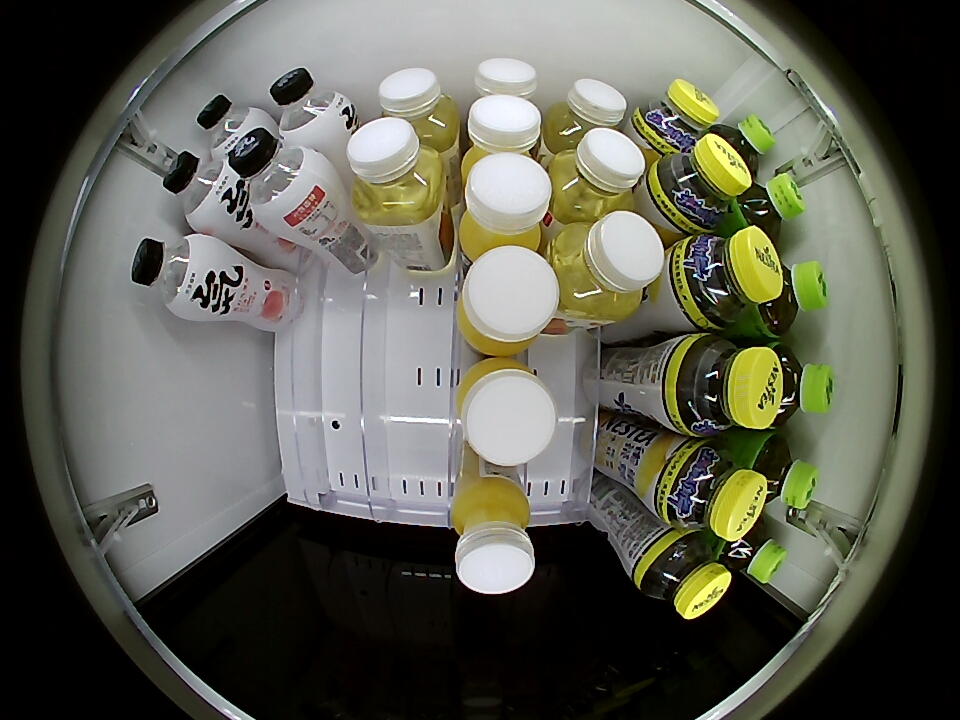chacui: (663, 334, 782, 437), (671, 228, 783, 332), (658, 439, 767, 541), (647, 135, 751, 233), (633, 528, 731, 620), (635, 80, 719, 155)
chapai2: (549, 211, 663, 324), (347, 116, 447, 225), (549, 128, 644, 222), (378, 67, 460, 149), (544, 78, 628, 153)
nfc: (457, 244, 561, 354), (456, 359, 557, 466), (458, 151, 553, 262), (449, 480, 536, 594), (462, 95, 543, 170), (473, 58, 539, 103)
yitengyuan: (762, 344, 833, 428), (754, 258, 828, 337), (745, 433, 818, 512), (731, 173, 805, 239), (716, 518, 786, 585), (716, 114, 775, 177)
yuanqishui: (228, 127, 333, 230), (131, 234, 222, 318), (269, 68, 356, 147), (162, 151, 243, 231), (196, 94, 268, 160)
